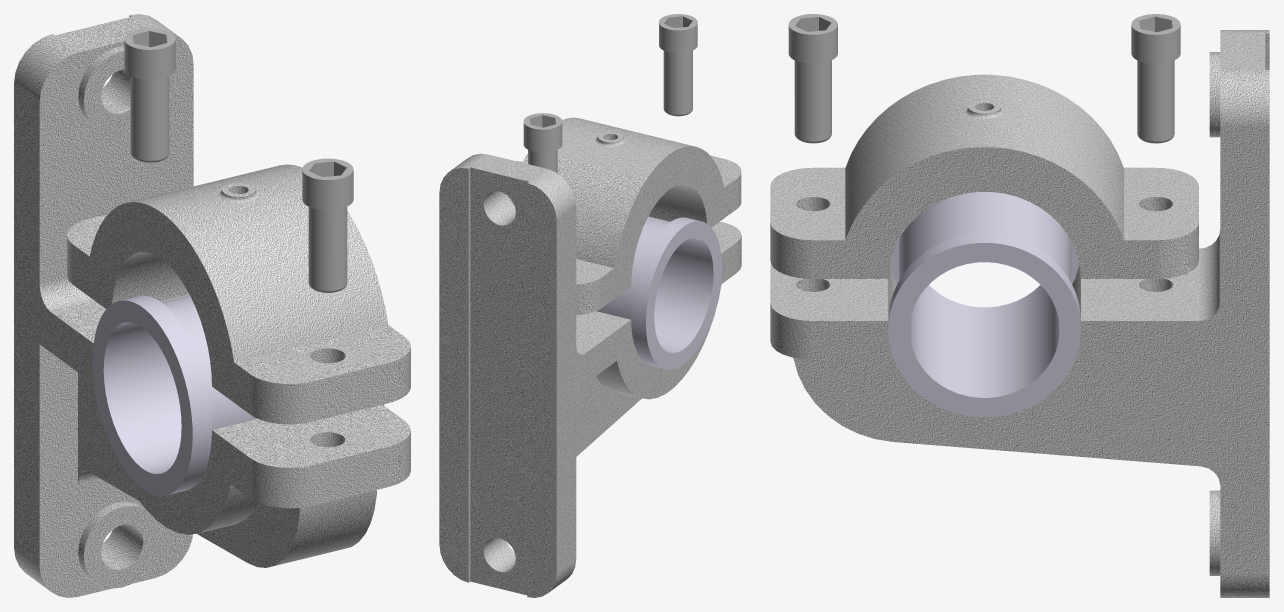
The model's file is Bearing Housing.glb.
The picture shows the model from 3 angles, left to right: view 1: azimuth 30°, elevation 25°; view 2: azimuth 150°, elevation 25°; view 3: azimuth 270°, elevation 25°; orthographic projection. The views are drawn at different scales.
Parts seen in each view (by area): view 1: Solid2, Solid1 (×4); view 2: Solid2, Solid1 (×4); view 3: Solid1 (×4), Solid2.
Boxes of the visible parts, <box> form: Solid2: <box>14,14,410,597</box>; Solid1 (×4): <box>67,28,410,495</box>; Solid2: <box>439,153,741,597</box>; Solid1 (×4): <box>507,14,741,369</box>; Solid1 (×4): <box>770,14,1198,417</box>; Solid2: <box>770,30,1269,597</box>.
Size of the model in its own units: 0.1 by 0.2842 by 0.233.
3 materials, 1 textured.
